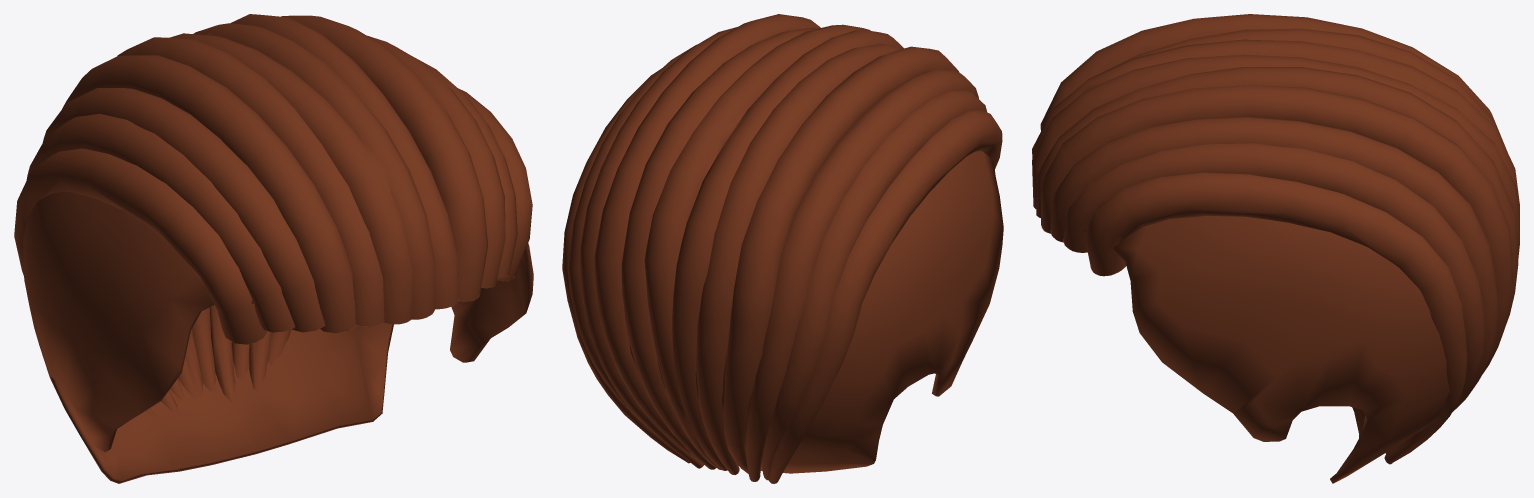
File: hair-1-c88a1e89.glb
3 renders of one model, left to right at view 1: azimuth 30°, elevation 25°; view 2: azimuth 150°, elevation 25°; view 3: azimuth 270°, elevation 25°, orthographic. The views are drawn at different scales.
Visible parts, largest first — view 1: hair_1.001; view 2: hair_1.001; view 3: hair_1.001.
Boxes of the visible parts, bbox=[...] form: hair_1.001: bbox=[14, 14, 533, 483]; hair_1.001: bbox=[562, 14, 1003, 483]; hair_1.001: bbox=[1032, 14, 1519, 483].
Bounding box in the file's own units: 1.53 × 1.63 × 1.81.
